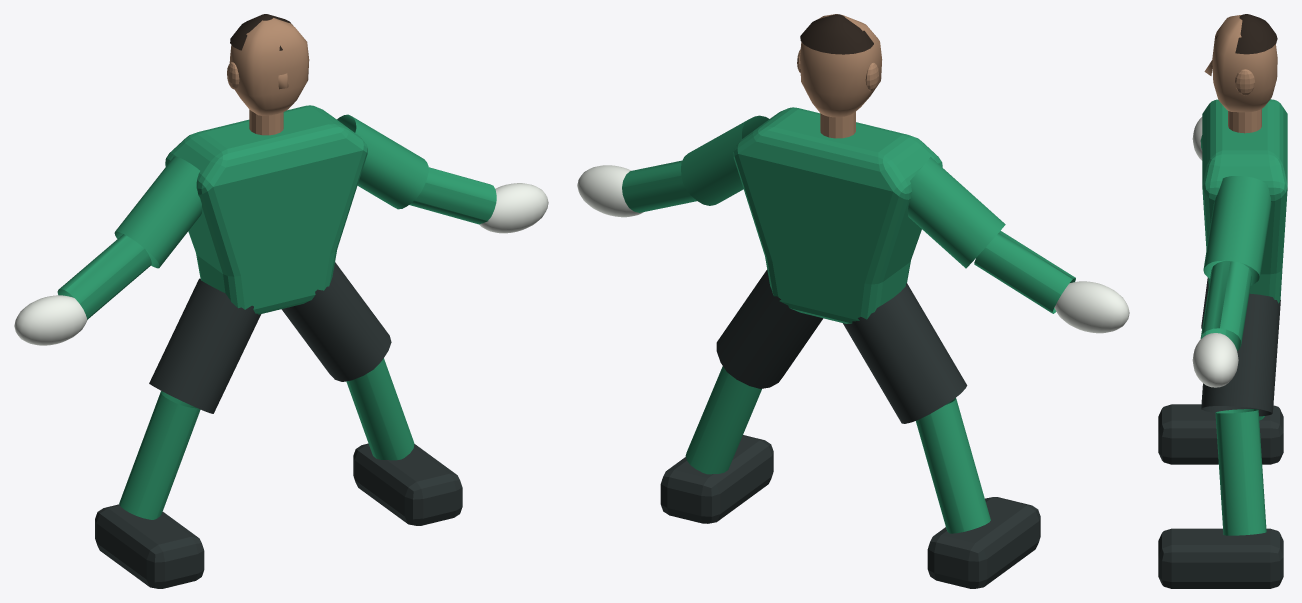
File: keeper.glb
3 views of the same model, side by side, from view 1: azimuth 30°, elevation 25°; view 2: azimuth 150°, elevation 25°; view 3: azimuth 270°, elevation 25° (orthographic). The views are drawn at different scales.
Visible parts, largest first — view 1: MESH_Team_Primary, MESH_Shorts_Graphite, MESH_Skin_Warm, MESH_Gloves_Ivory; view 2: MESH_Team_Primary, MESH_Shorts_Graphite, MESH_Skin_Warm, MESH_Gloves_Ivory, MESH_Hair_Dark; view 3: MESH_Team_Primary, MESH_Shorts_Graphite, MESH_Skin_Warm, MESH_Gloves_Ivory, MESH_Hair_Dark.
Boxes of the visible parts, left/top/right/bottom form: MESH_Team_Primary: left=57, top=105, right=496, bottom=519; MESH_Shorts_Graphite: left=95, top=262, right=462, bottom=588; MESH_Skin_Warm: left=227, top=18, right=309, bottom=135; MESH_Gloves_Ivory: left=14, top=183, right=548, bottom=345; MESH_Team_Primary: left=622, top=107, right=1075, bottom=533; MESH_Shorts_Graphite: left=660, top=269, right=1040, bottom=588; MESH_Skin_Warm: left=797, top=14, right=882, bottom=138; MESH_Gloves_Ivory: left=577, top=165, right=1129, bottom=333; MESH_Hair_Dark: left=800, top=14, right=873, bottom=54; MESH_Team_Primary: left=1200, top=99, right=1287, bottom=535; MESH_Shorts_Graphite: left=1158, top=277, right=1283, bottom=588; MESH_Skin_Warm: left=1204, top=15, right=1277, bottom=133; MESH_Gloves_Ivory: left=1192, top=117, right=1238, bottom=387; MESH_Hair_Dark: left=1215, top=14, right=1277, bottom=54.
Bounding box in the file's own units: 1.13 × 1.04 × 0.2425.
